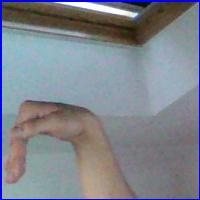del: (4, 101, 98, 188)
